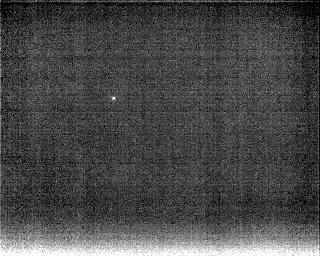BIRD: (109, 94, 118, 104)
